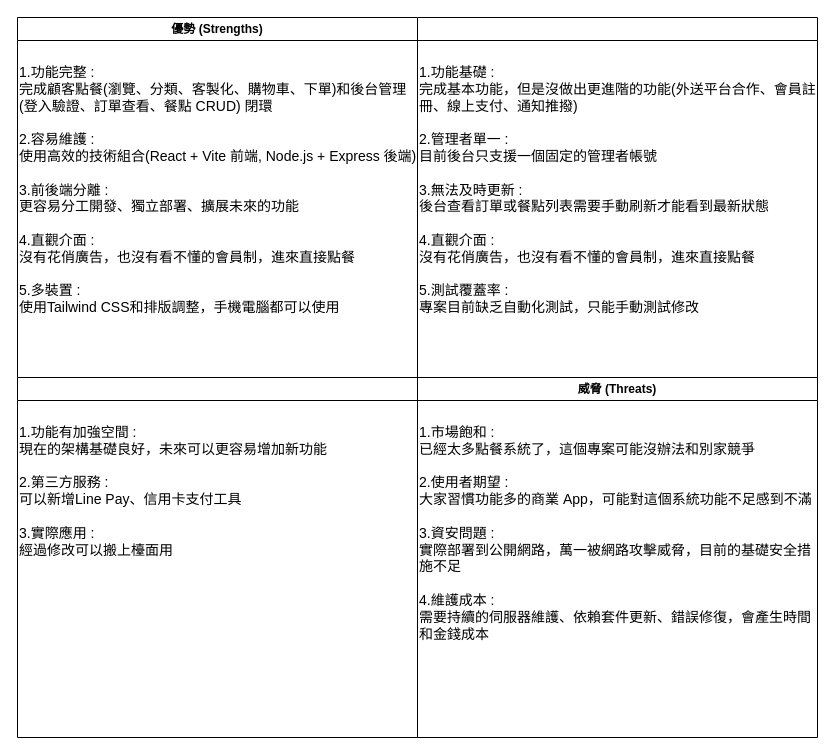
The diagram is 835 pixels wide and 755 high, and some of its shapes have lost their labels. The shapes that lost their labels are listed below. From the top down, each one's box as (x1, y1, x2, y2) in pixels, then its label:
(416, 16, 818, 378): 劣勢 (Weaknesses)
(16, 376, 418, 738): 機會 (Opportunities)
